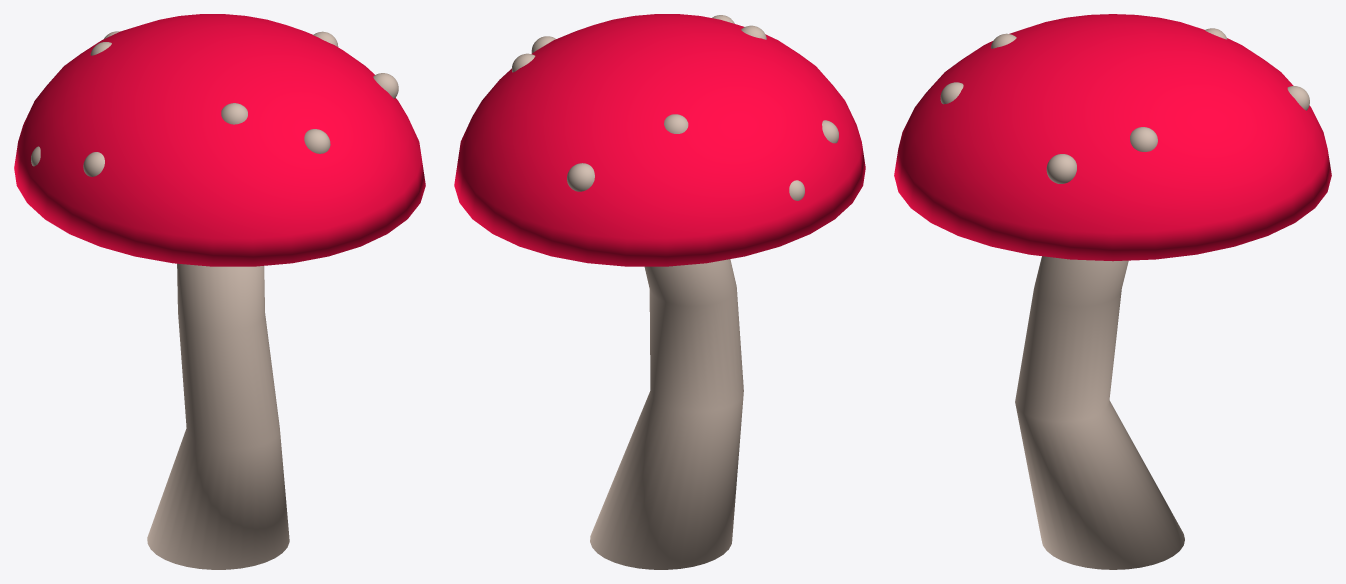
The model's file is mush2 (1).fbx.
3 views of the same model, side by side, from view 1: azimuth 30°, elevation 25°; view 2: azimuth 150°, elevation 25°; view 3: azimuth 270°, elevation 25° (orthographic).
Parts seen in each view (by area): view 1: Sphere; view 2: Sphere; view 3: Sphere.
Boxes of the visible parts, x1,y1,x2,y2 form: Sphere: (14, 14, 425, 569); Sphere: (454, 14, 865, 569); Sphere: (894, 14, 1331, 569).
Bounding box in the file's own units: 997 × 1357 × 1074.
